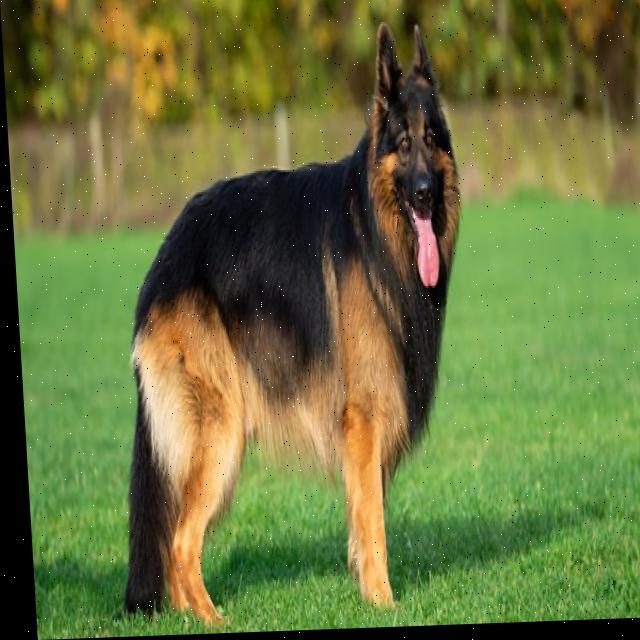GERMAN_SHEPHERD: (81, 1, 488, 638)
